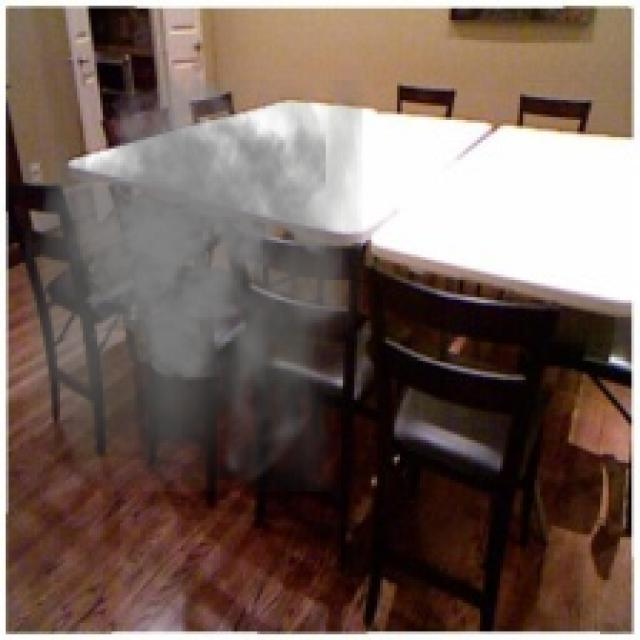smoke: (20, 66, 363, 491)
